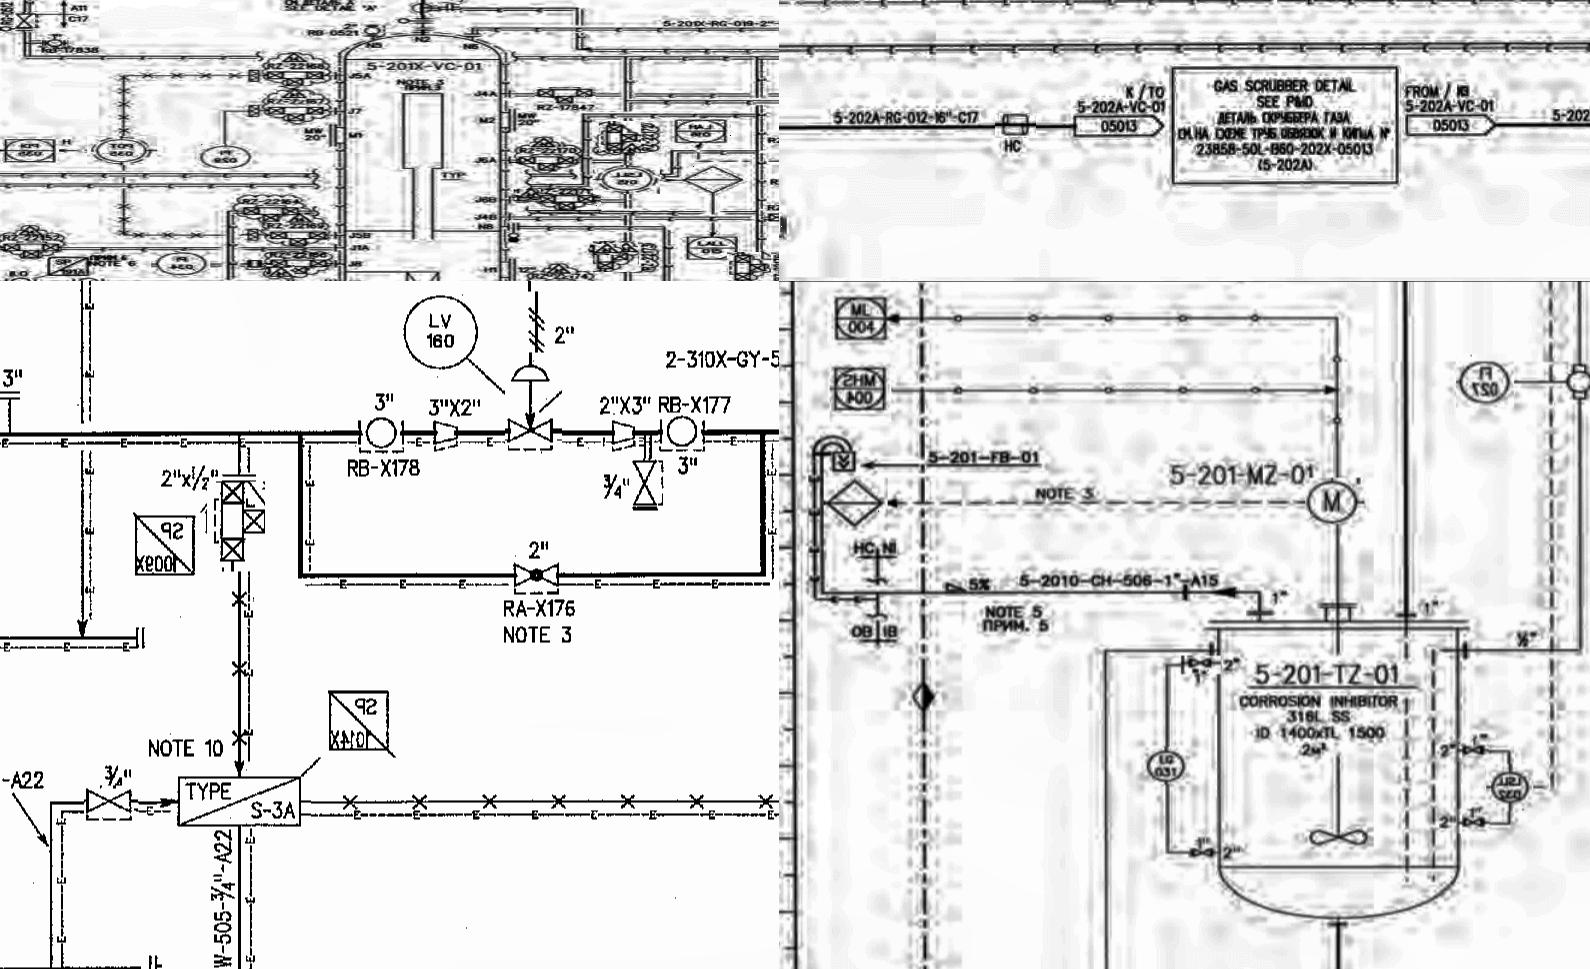2 WAY VALVE: (207, 482, 265, 571), (265, 254, 334, 276), (593, 241, 638, 273), (258, 103, 328, 124), (241, 202, 307, 224), (529, 195, 603, 214), (517, 152, 586, 172), (599, 122, 641, 153), (729, 251, 773, 281), (0, 240, 65, 259), (263, 69, 324, 89), (535, 86, 596, 105), (267, 231, 327, 248)
BLIND SPADE OPEN: (394, 17, 440, 26)
CONCENTRIC REDUCER: (424, 414, 468, 450), (604, 414, 641, 457)
DCS ACCESSIBLE: (683, 234, 745, 264), (668, 117, 733, 144), (1, 136, 61, 164)
DIAPHRAGM ACTUATED VALVE: (505, 353, 562, 453)
DIAPHRAGM SEAL: (545, 259, 572, 276), (530, 136, 562, 149), (514, 189, 542, 202), (242, 228, 263, 244), (589, 244, 622, 254), (597, 142, 622, 154), (267, 266, 294, 277)
DUPLEX RECEPTACLE: (995, 114, 1036, 140)
END FLANGED: (141, 946, 162, 969), (277, 86, 311, 100), (0, 387, 27, 403), (437, 2, 460, 15)
FIELD INSTRUMENT: (394, 283, 485, 381), (87, 135, 159, 165), (355, 414, 408, 453), (593, 166, 660, 194), (659, 414, 703, 453), (151, 251, 210, 276), (198, 144, 254, 169), (362, 24, 388, 36), (410, 3, 437, 15), (42, 37, 67, 49)
GATE VALVE: (84, 786, 139, 822), (629, 459, 667, 509), (16, 12, 37, 33)
GLOBE VALVE: (507, 551, 564, 592)
HARDWIRED INTERLOCK PRIMARY.: (686, 165, 744, 195)
REVISION TRIANGLE: (19, 222, 44, 240), (277, 52, 312, 65), (287, 212, 320, 225)
SPECIAL PIPING ITEM: (171, 769, 311, 839), (317, 683, 400, 757), (129, 513, 206, 583), (45, 256, 99, 279)
SPECTACLE BLIND OPEN: (504, 220, 526, 242)
